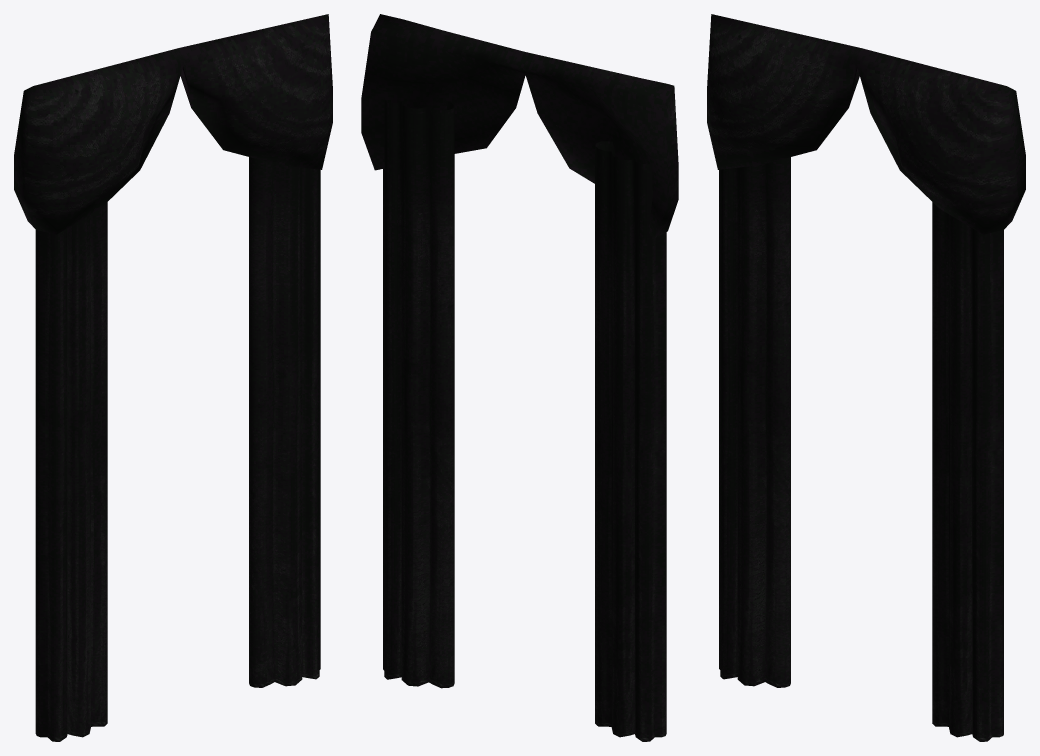
The model's file is curtain10_long.dae.
The picture shows the model from 3 angles, left to right: view 1: azimuth 30°, elevation 25°; view 2: azimuth 150°, elevation 25°; view 3: azimuth 330°, elevation 25°; orthographic projection.
Visible parts, largest first — view 1: polySurface191; view 2: polySurface191; view 3: polySurface191.
Part boxes in pixels (x1,y1,x2,y2): polySurface191: (14, 14, 332, 741); polySurface191: (361, 14, 678, 741); polySurface191: (707, 14, 1025, 741).
Size of what is drawn, in the model's own units: 2.5 by 5.08 by 0.4673.
